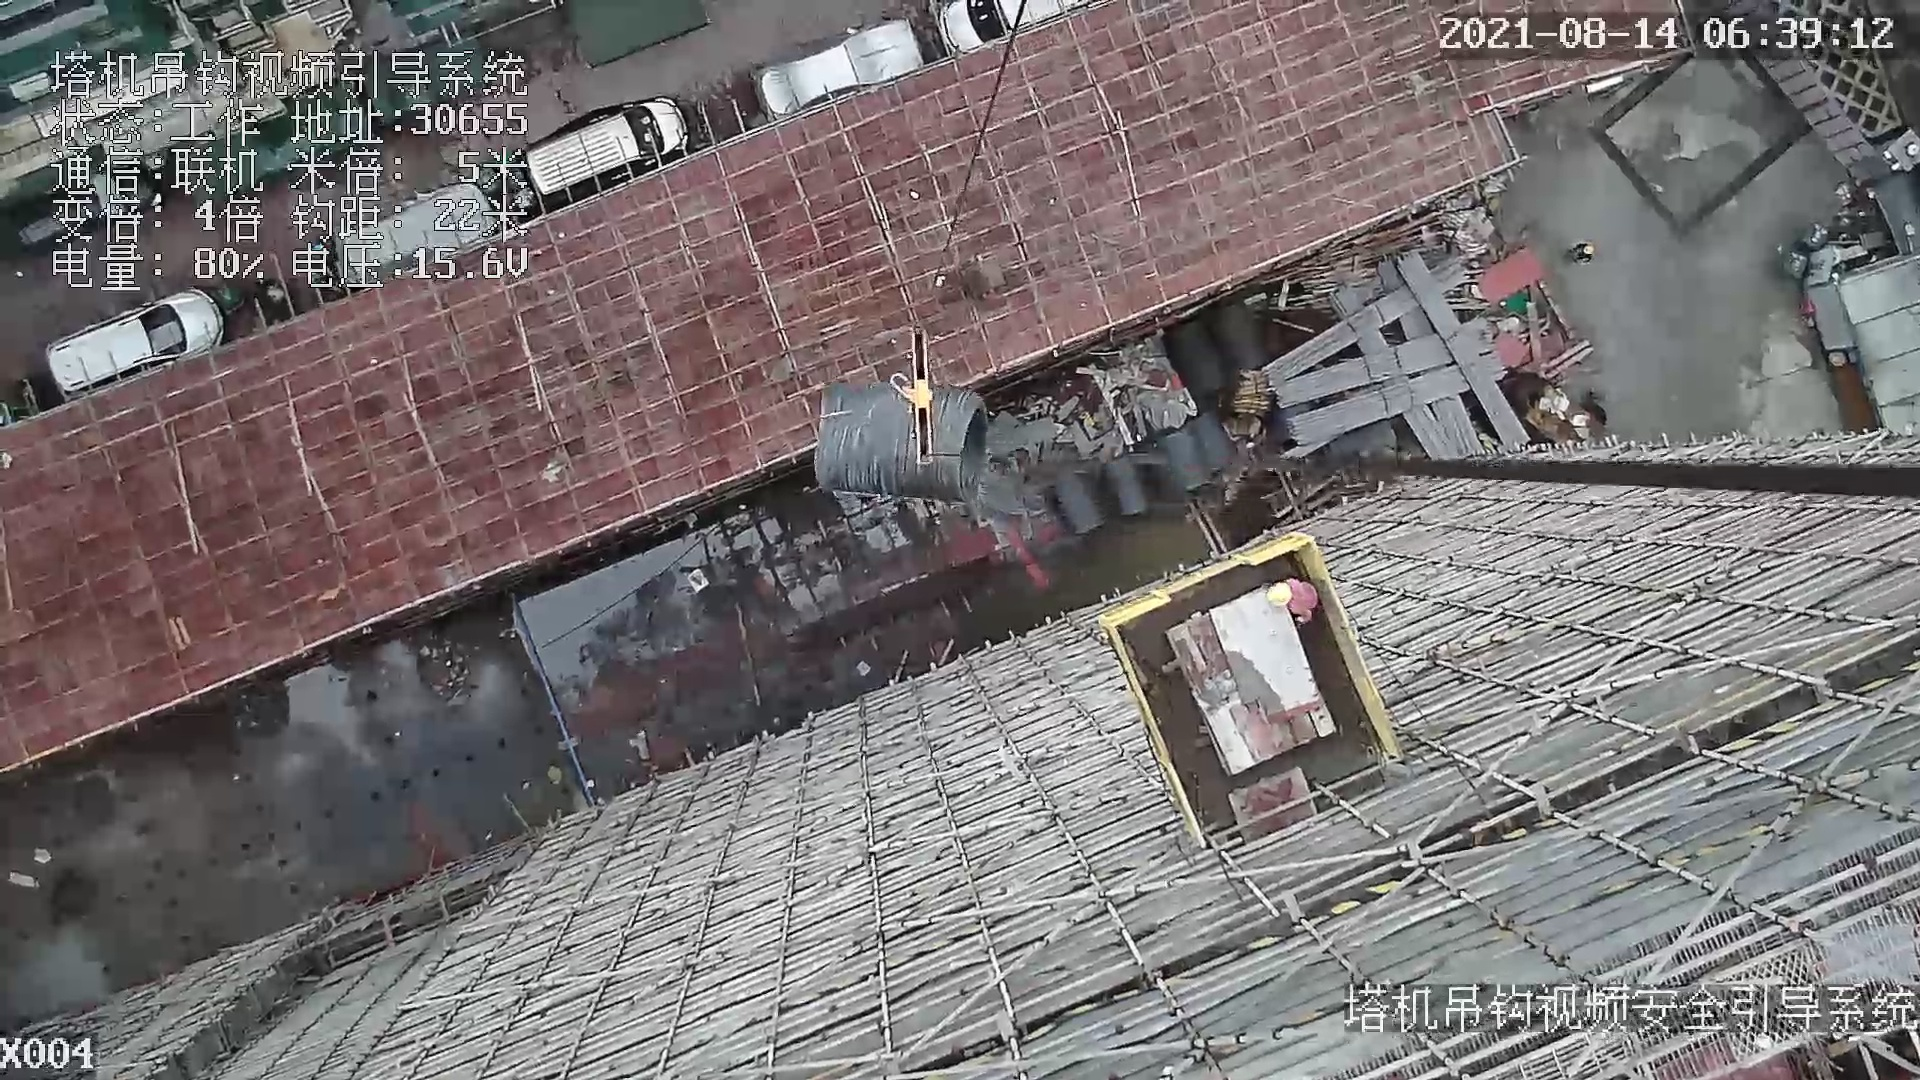helmet: (1261, 572, 1290, 612)
hook: (890, 323, 938, 465)
person: (1269, 568, 1318, 630)
